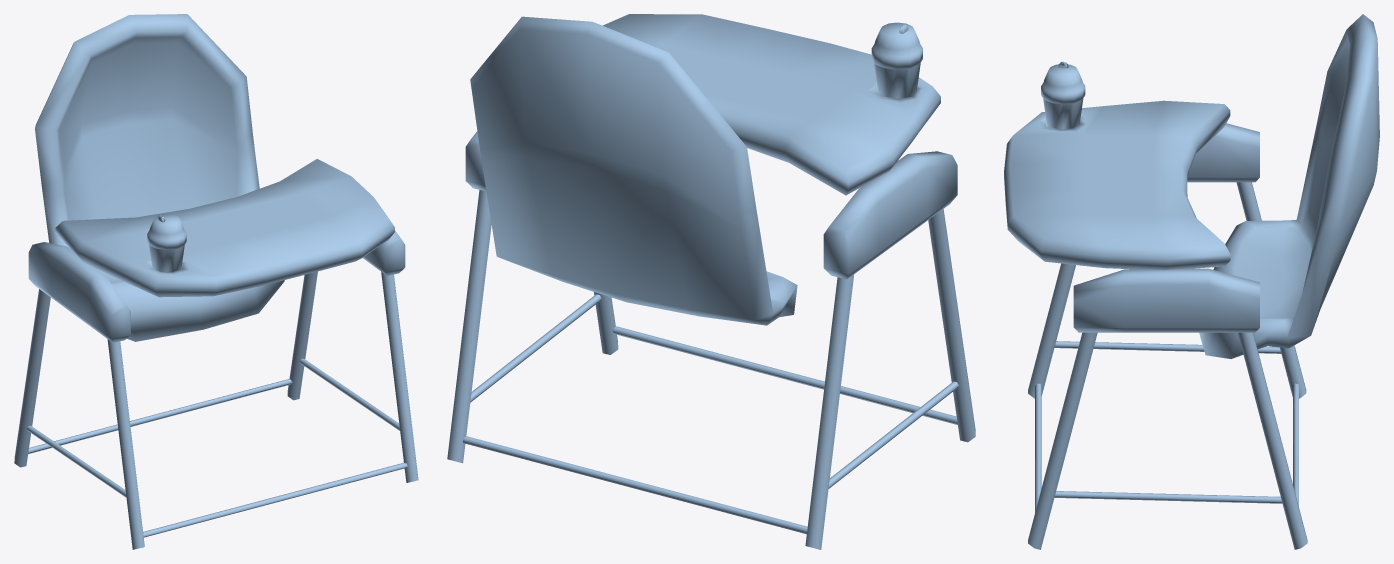
The model's file is cadeira.fbx.
3 views of the same model, side by side, from view 1: azimuth 30°, elevation 25°; view 2: azimuth 150°, elevation 25°; view 3: azimuth 270°, elevation 25° (orthographic). The views are drawn at different scales.
Parts seen in each view (by area): view 1: Plane; view 2: Plane; view 3: Plane.
Part boxes in pixels (x1,y1,x2,y2): Plane: [14, 14, 418, 549]; Plane: [447, 14, 975, 549]; Plane: [1004, 14, 1379, 549].
Bounding box in the file's own units: 0.7712 × 0.9885 × 0.7616.
